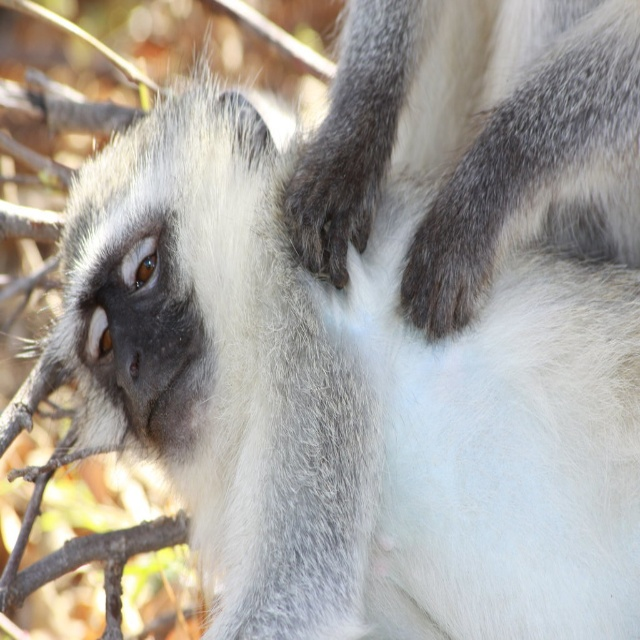Monkey: (283, 0, 639, 338)
